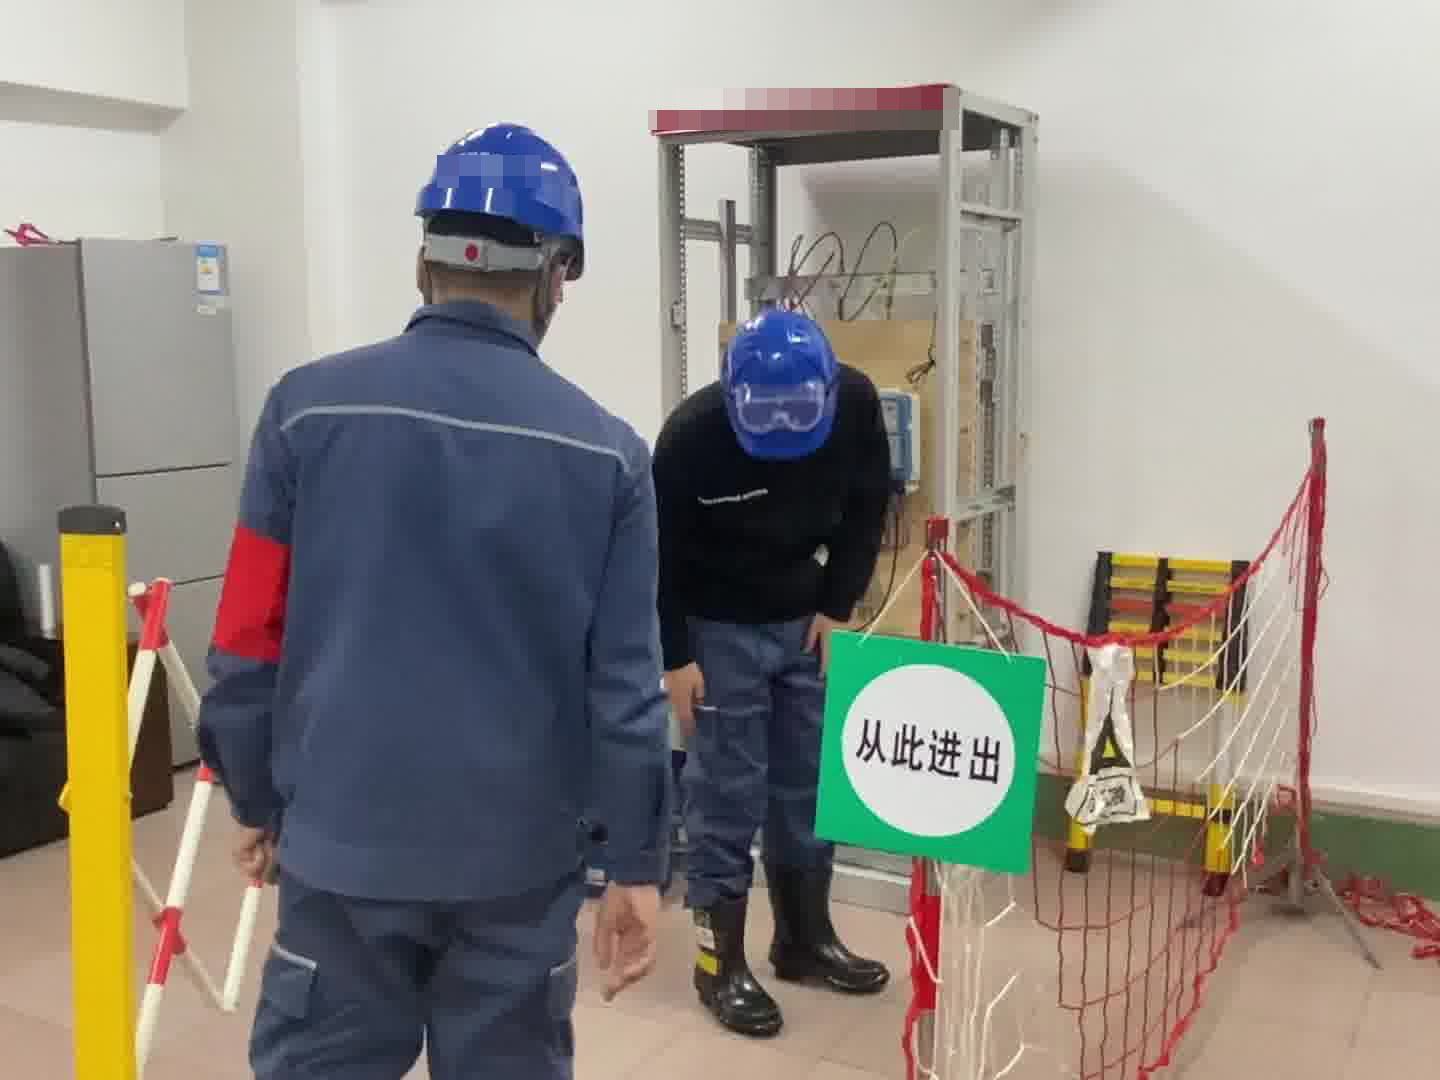badge: (211, 528, 298, 666)
downsuit: (234, 904, 603, 1080), (675, 628, 839, 984)
halt: (405, 117, 601, 339), (722, 310, 847, 464)
hand: (587, 878, 657, 997), (233, 820, 282, 887), (665, 658, 708, 732), (803, 617, 847, 682)
inear: (531, 248, 577, 311)
intosign: (810, 620, 1043, 880)
person: (189, 103, 685, 1079), (652, 305, 902, 1034)
shoe: (762, 863, 890, 997), (692, 908, 780, 1035)
upcloth: (660, 340, 896, 630)
upsuit: (199, 308, 670, 871)
